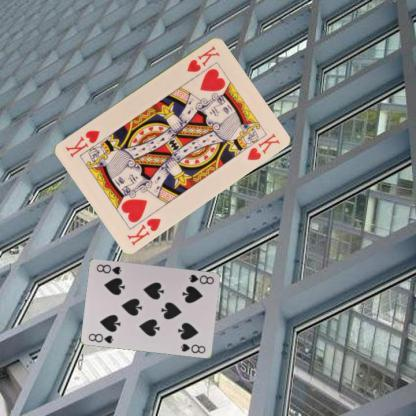8s: (186, 272, 216, 286), (86, 330, 115, 344)
Kh: (124, 215, 162, 247), (184, 42, 221, 74)
